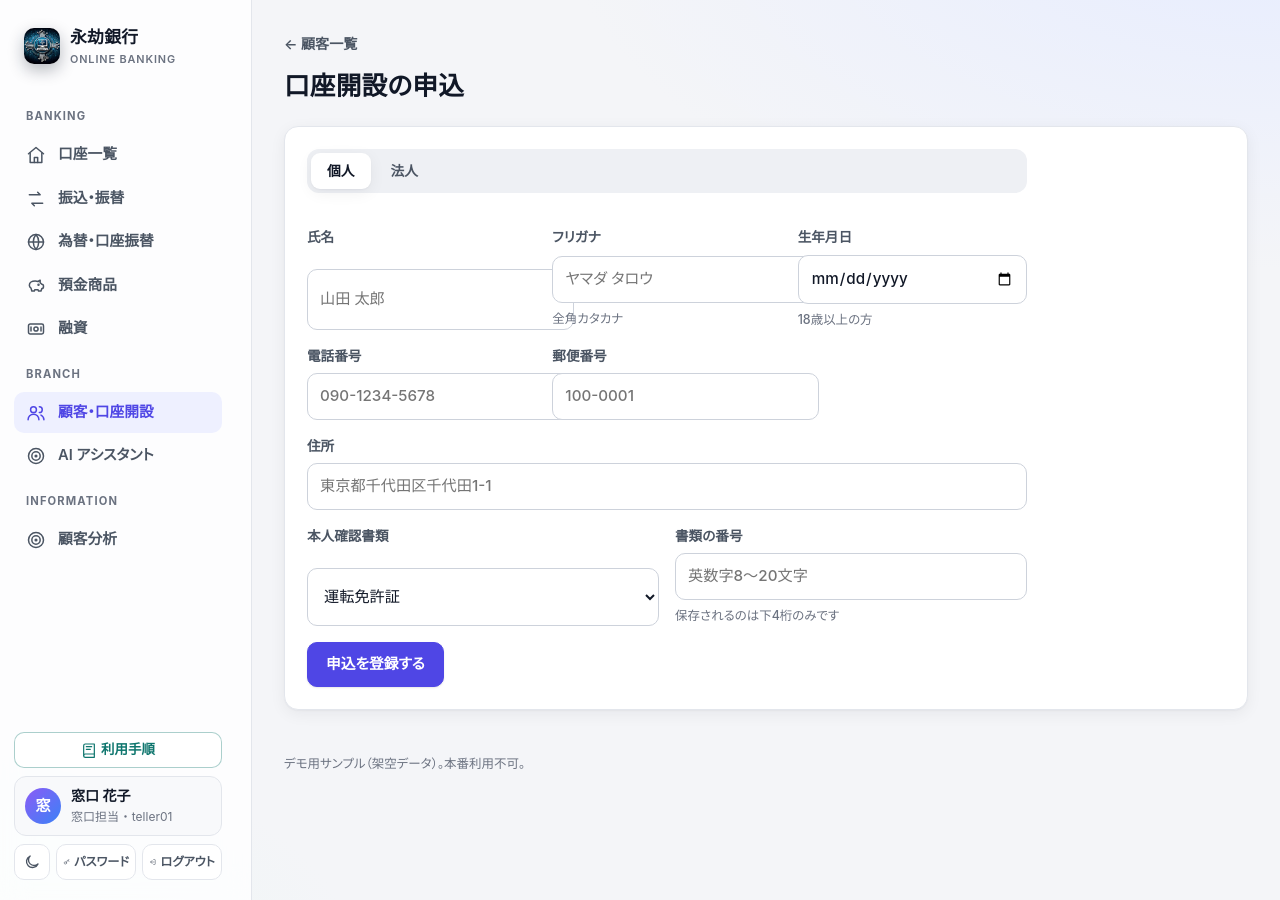
Scenario: NewCustomerPage › 法人タブでは項目名を商号・設立日に変える
Click the tab "法人" at (404, 172), box top-left (374, 154), bottom-right (434, 190)
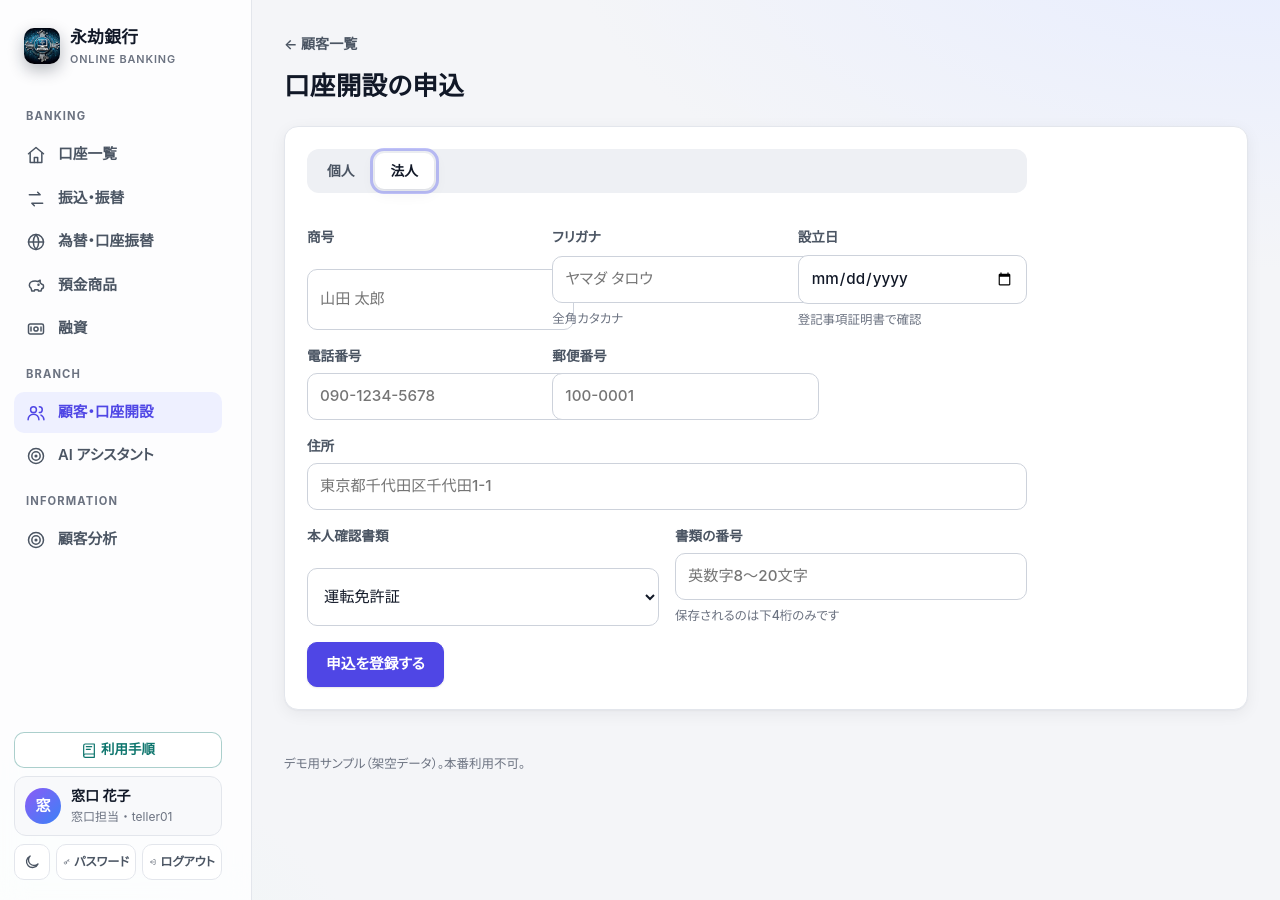
Check: the field labelled "商号" is shown, box top-left (307, 269), bottom-right (574, 330)
Check: the text "登記事項証明書で確認" is shown, box top-left (798, 312), bottom-right (922, 326)
